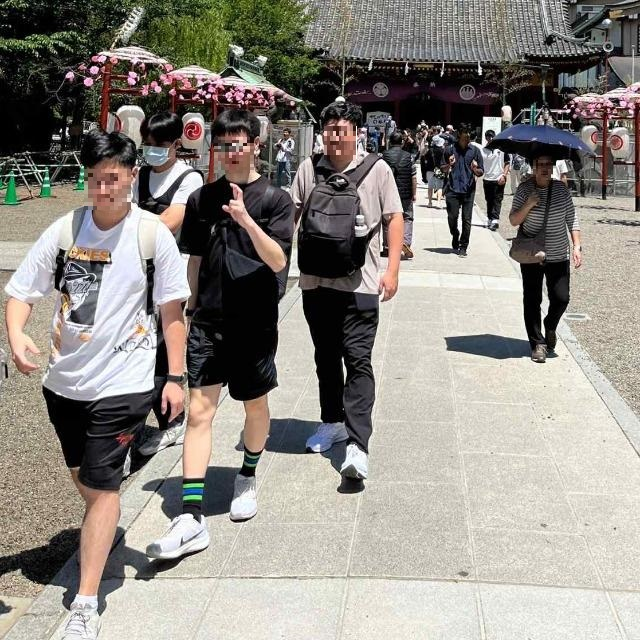NoHelmet: (78, 128, 139, 213), (209, 109, 263, 176)
NoVest: (46, 210, 168, 400)
